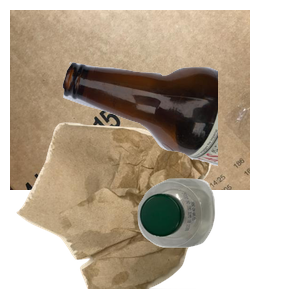cardboard: (10, 10, 250, 190)
glass: (60, 59, 300, 217)
plastic: (135, 176, 300, 300)
trash: (14, 120, 222, 300)
